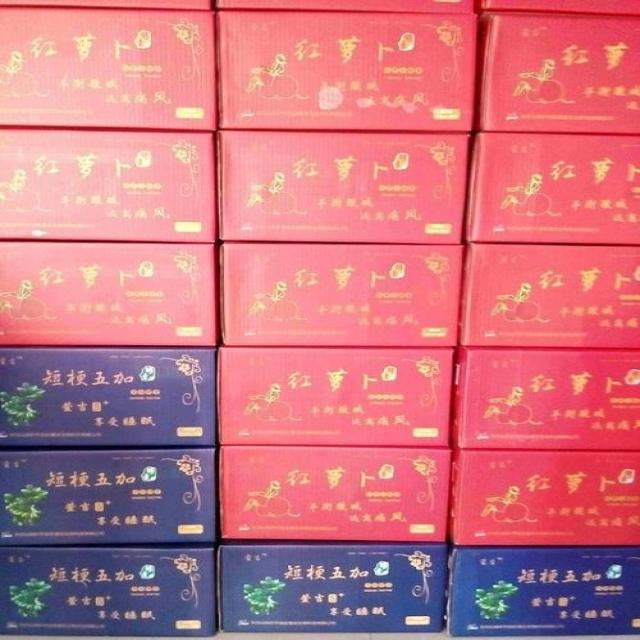box: (218, 10, 477, 132), (216, 129, 470, 243), (3, 6, 215, 129), (218, 243, 465, 347), (0, 128, 216, 243), (215, 347, 456, 448), (0, 241, 218, 346), (218, 446, 451, 543), (215, 539, 444, 634), (0, 347, 214, 447), (0, 447, 215, 545), (475, 12, 640, 135), (0, 543, 215, 636), (466, 133, 640, 245), (462, 244, 640, 351), (452, 350, 640, 451), (448, 449, 640, 547), (443, 547, 640, 636), (219, 0, 476, 12), (477, 0, 640, 15), (0, 0, 212, 10)
